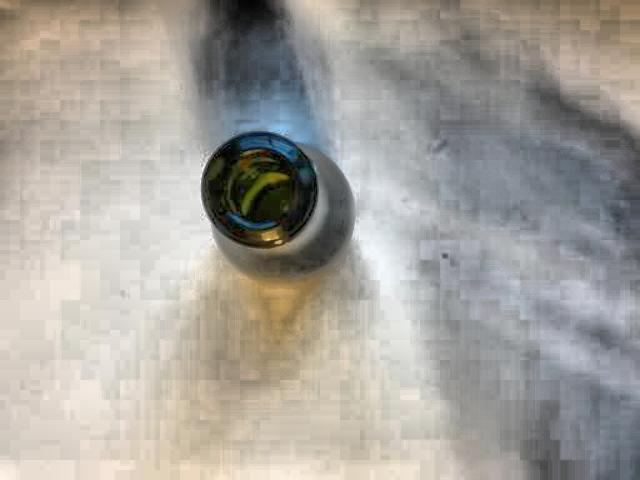Bottles: (175, 111, 380, 293)
